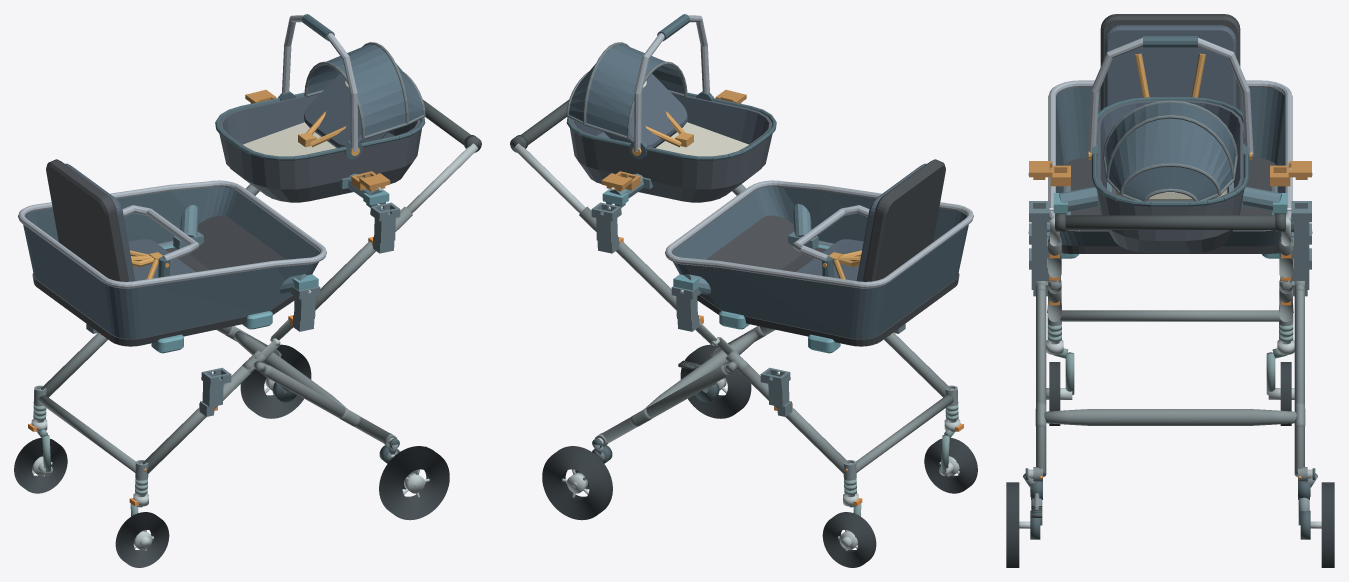
The model's file is D22_w650_state1_wheel_S.glb.
3 renders of one model, left to right at view 1: azimuth 30°, elevation 25°; view 2: azimuth 150°, elevation 25°; view 3: azimuth 270°, elevation 25°, orthographic. The views are drawn at different scales.
Parts seen in each view (by area): view 1: D22_Lower, D22_Upper, RL_tire.008, RR_tire.008, FL_tire.008, FR_tire.008, V46_rear_leg_-1.009, main_lower_-1.009, D22_Lower_Mount_M, main_upper_-1.009, front_fixed_round_tube.008, V46_rearbar.009 (+8 smaller); view 2: D22_Lower, D22_Upper, RR_tire.008, FR_tire.008, RL_tire.008, FL_tire.008, V46_rear_leg_1.009, main_lower_1.009, D22_Lower_Mount_M, main_upper_1.009, front_fixed_round_tube.008, V46_rearbar.009 (+8 smaller); view 3: D22_Lower, D22_Upper, V46_rearbar.009, round_handle.008, front_fixed_round_tube.008, D22_Upper_Mount_H, V46_rear_leg_1.009, V46_rear_leg_-1.009, RL_tire.008, RR_tire.008, Universal_Cabin_Receiver_H_1, Universal_Cabin_Receiver_H_-1 (+8 smaller).
Boxes of the visible parts, left/top/right/bottom form: D22_Lower: left=18, top=159, right=326, bottom=353; D22_Upper: left=215, top=14, right=425, bottom=202; RL_tire.008: left=379, top=446, right=449, bottom=520; RR_tire.008: left=240, top=344, right=311, bottom=418; FL_tire.008: left=115, top=512, right=169, bottom=567; FR_tire.008: left=14, top=438, right=67, bottom=493; V46_rear_leg_-1.009: left=262, top=365, right=390, bottom=443; main_lower_-1.009: left=142, top=366, right=254, bottom=473; D22_Lower_Mount_M: left=173, top=205, right=318, bottom=294; main_upper_-1.009: left=315, top=206, right=412, bottom=310; front_fixed_round_tube.008: left=38, top=395, right=135, bottom=472; V46_rearbar.009: left=234, top=330, right=347, bottom=408; D22_Lower: left=665, top=159, right=973, bottom=353; D22_Upper: left=566, top=14, right=776, bottom=202; RR_tire.008: left=542, top=446, right=612, bottom=520; FR_tire.008: left=822, top=512, right=876, bottom=567; RL_tire.008: left=680, top=344, right=751, bottom=418; FL_tire.008: left=924, top=438, right=977, bottom=493; V46_rear_leg_1.009: left=601, top=365, right=729, bottom=443; main_lower_1.009: left=737, top=366, right=849, bottom=473; D22_Lower_Mount_M: left=673, top=203, right=818, bottom=294; main_upper_1.009: left=579, top=206, right=676, bottom=310; front_fixed_round_tube.008: left=856, top=395, right=953, bottom=472; V46_rearbar.009: left=644, top=330, right=757, bottom=408; D22_Lower: left=1048, top=14, right=1292, bottom=258; D22_Upper: left=1087, top=36, right=1253, bottom=253; V46_rearbar.009: left=1044, top=409, right=1296, bottom=425; round_handle.008: left=1055, top=215, right=1285, bottom=229; front_fixed_round_tube.008: left=1060, top=310, right=1280, bottom=321; D22_Upper_Mount_H: left=1049, top=182, right=1291, bottom=215; V46_rear_leg_1.009: left=1294, top=288, right=1304, bottom=477; V46_rear_leg_-1.009: left=1036, top=288, right=1046, bottom=477; RL_tire.008: left=1006, top=482, right=1019, bottom=567; RR_tire.008: left=1321, top=482, right=1334, bottom=567; Universal_Cabin_Receiver_H_1: left=1291, top=201, right=1311, bottom=258; Universal_Cabin_Receiver_H_-1: left=1029, top=201, right=1049, bottom=258.
Size of the model in its own units: 1.13 by 1.32 by 0.766.
